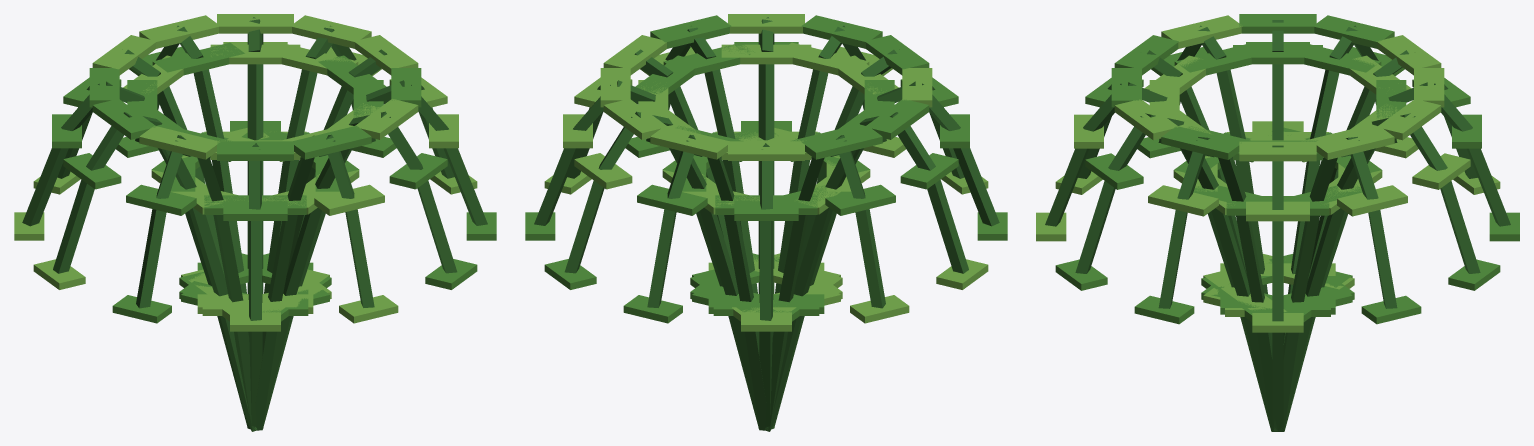
File: buisson_foret_1.glb
3 renders of one model, left to right at view 1: azimuth 30°, elevation 25°; view 2: azimuth 150°, elevation 25°; view 3: azimuth 270°, elevation 25°, orthographic.
Visible parts, largest first — view 1: fougere_feuille_sombre.002, fougere_feuille.002, fougere_feuille_claire.002; view 2: fougere_feuille_sombre.002, fougere_feuille.002, fougere_feuille_claire.002; view 3: fougere_feuille_sombre.002, fougere_feuille_claire.002, fougere_feuille.002.
Boxes of the visible parts, x1,y1,x2,y2 form: fougere_feuille_sombre.002: (22, 17, 487, 431); fougere_feuille.002: (52, 42, 496, 323); fougere_feuille_claire.002: (14, 14, 477, 331); fougere_feuille_sombre.002: (534, 17, 999, 431); fougere_feuille.002: (525, 15, 1007, 323); fougere_feuille_claire.002: (544, 14, 988, 331); fougere_feuille_sombre.002: (1045, 20, 1510, 431); fougere_feuille_claire.002: (1036, 15, 1500, 332); fougere_feuille.002: (1055, 14, 1519, 324).
Bounding box in the file's own units: 0.64 × 0.5095 × 0.64.
